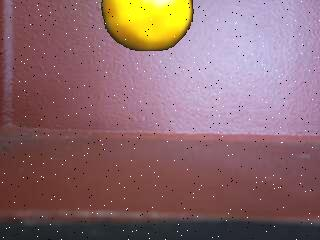Lemon: (101, 0, 197, 52)
